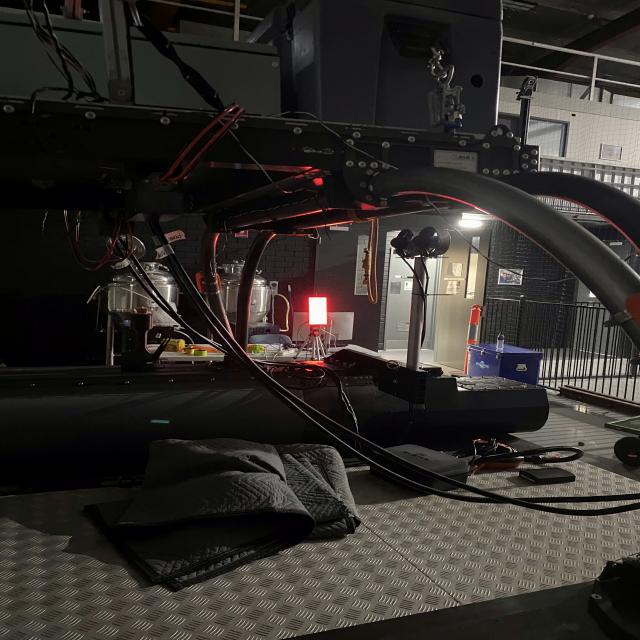matrix: (306, 296, 332, 326)
